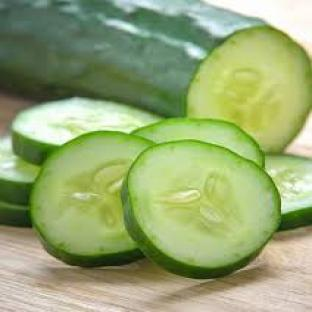Cucumber: (123, 141, 281, 277), (31, 132, 153, 267), (189, 27, 311, 152), (12, 99, 160, 163), (133, 118, 264, 166), (267, 155, 311, 229), (0, 137, 39, 204), (0, 201, 30, 226)
